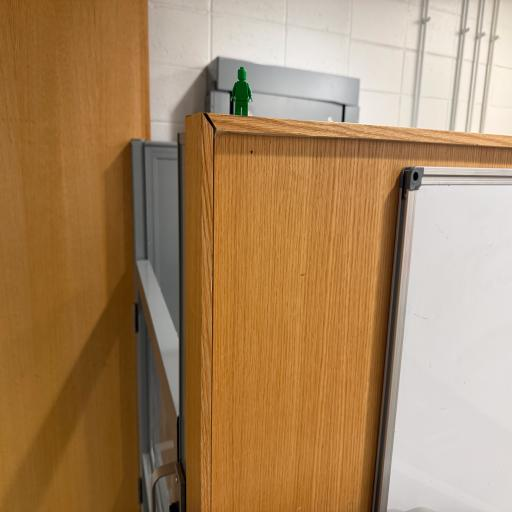Lego-Dude: (231, 67, 252, 116)
